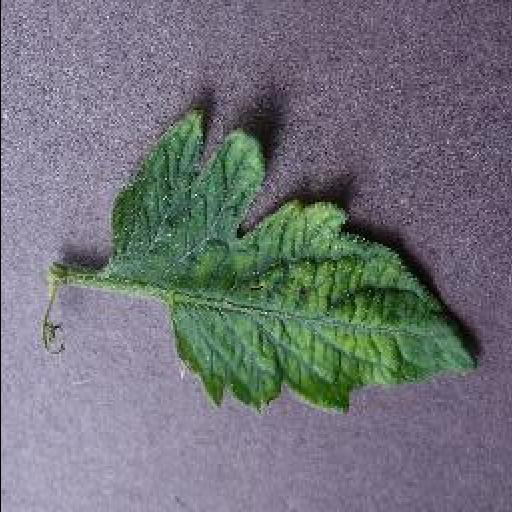disease_tomato: (113, 104, 477, 414)
